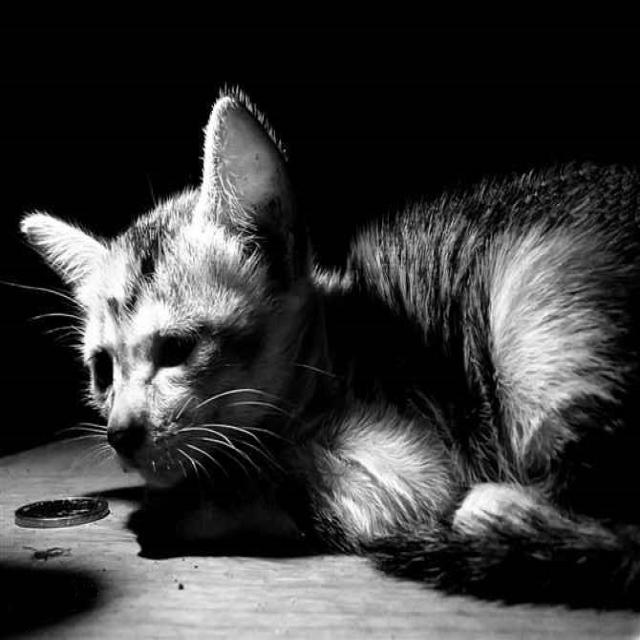Cat: (16, 80, 640, 608)
